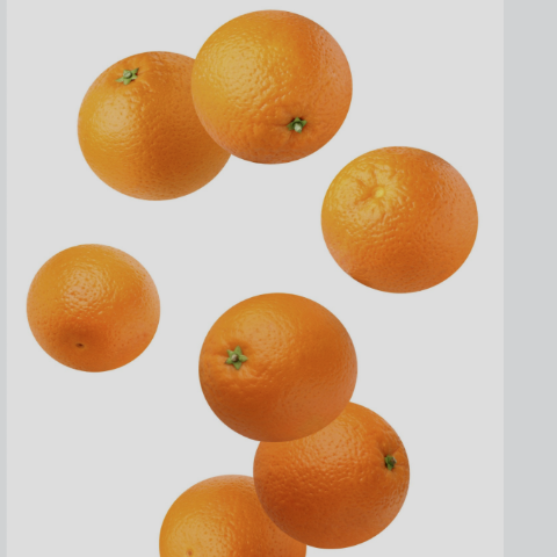orange: (313, 144, 491, 316), (182, 0, 362, 170), (238, 394, 434, 549), (66, 45, 244, 203), (188, 290, 362, 448), (23, 233, 161, 379), (149, 459, 309, 557)
